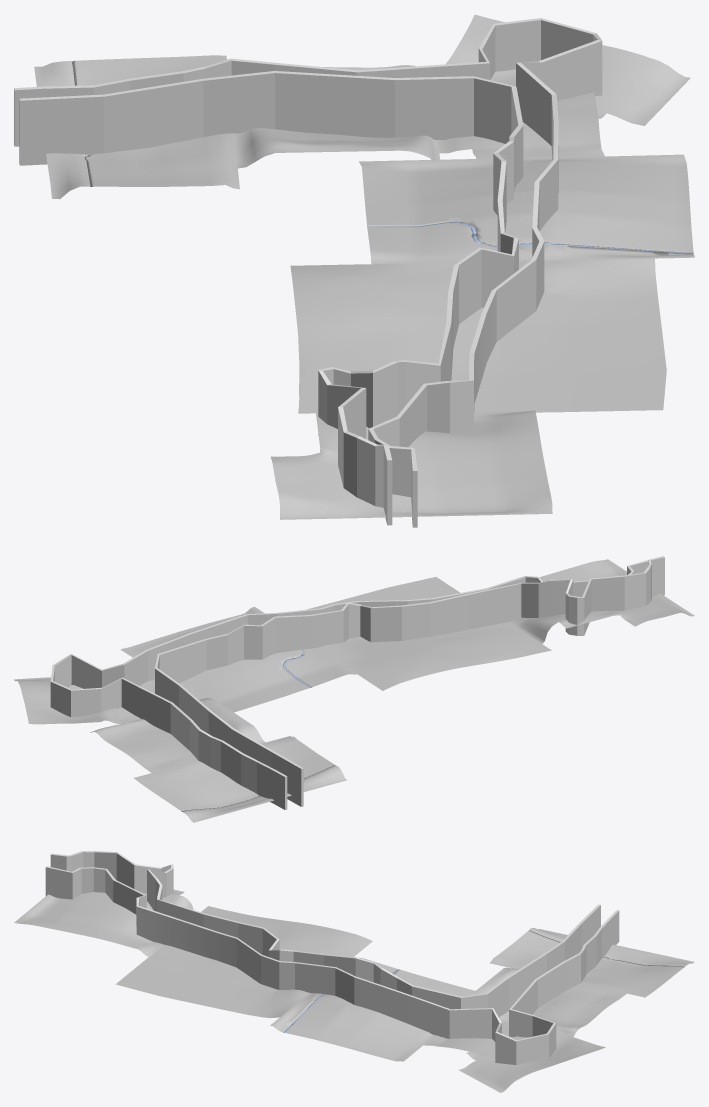
The model's file is CircusForestWallCorridor3.fbx.
3 renders of one model, top to bottom at view 1: azimuth 30°, elevation 25°; view 2: azimuth 150°, elevation 25°; view 3: azimuth 270°, elevation 25°, orthographic. The views are drawn at different scales.
Parts seen in each view (by area): view 1: CircusForestWallCorridor2, Module01_forest_entrance02, Module02_muddy_path01, CircusForestWallCorridor, Module04_weird_settlement02, Module03_dark_woods01, Module07_open_space01, Module5_simple_path01, Module06_winding_path01; view 2: CircusForestWallCorridor2, CircusForestWallCorridor, Module01_forest_entrance02, Module02_muddy_path01, Module03_dark_woods01, Module5_simple_path01, Module04_weird_settlement02, Module07_open_space01; view 3: CircusForestWallCorridor, CircusForestWallCorridor2, Module01_forest_entrance02, Module02_muddy_path01, Module03_dark_woods01, Module04_weird_settlement02, Module5_simple_path01, Module07_open_space01, Module06_winding_path01.
Boxes of the visible parts, box(x1,y1,x2,y2) form: CircusForestWallCorridor2: box(19, 71, 523, 525); Module01_forest_entrance02: box(290, 258, 666, 413); Module02_muddy_path01: box(359, 154, 694, 264); CircusForestWallCorridor: box(14, 18, 602, 527); Module04_weird_settlement02: box(270, 407, 552, 519); Module03_dark_woods01: box(34, 55, 239, 199); Module07_open_space01: box(445, 14, 690, 125); Module5_simple_path01: box(234, 65, 439, 168); Module06_winding_path01: box(437, 92, 604, 158); CircusForestWallCorridor2: box(155, 556, 664, 806); CircusForestWallCorridor: box(50, 560, 648, 809); Module01_forest_entrance02: box(305, 577, 551, 690); Module02_muddy_path01: box(120, 606, 356, 712); Module03_dark_woods01: box(134, 736, 346, 822); Module5_simple_path01: box(90, 698, 265, 772); Module04_weird_settlement02: box(507, 559, 694, 643); Module07_open_space01: box(14, 677, 121, 724); CircusForestWallCorridor: box(45, 866, 619, 1064); CircusForestWallCorridor2: box(50, 851, 600, 1017); Module01_forest_entrance02: box(115, 906, 372, 1018); Module02_muddy_path01: box(270, 958, 474, 1061); Module03_dark_woods01: box(489, 928, 694, 997); Module04_weird_settlement02: box(14, 889, 193, 956); Module5_simple_path01: box(470, 967, 626, 1036); Module07_open_space01: box(458, 1028, 605, 1092); Module06_winding_path01: box(424, 1022, 512, 1057).
Bounding box in the file's own units: 357 × 44.86 × 482.
